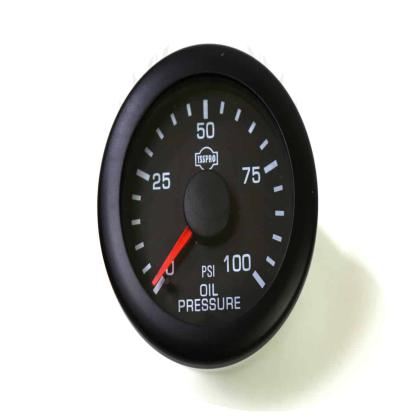needle: (150, 225, 194, 288)
